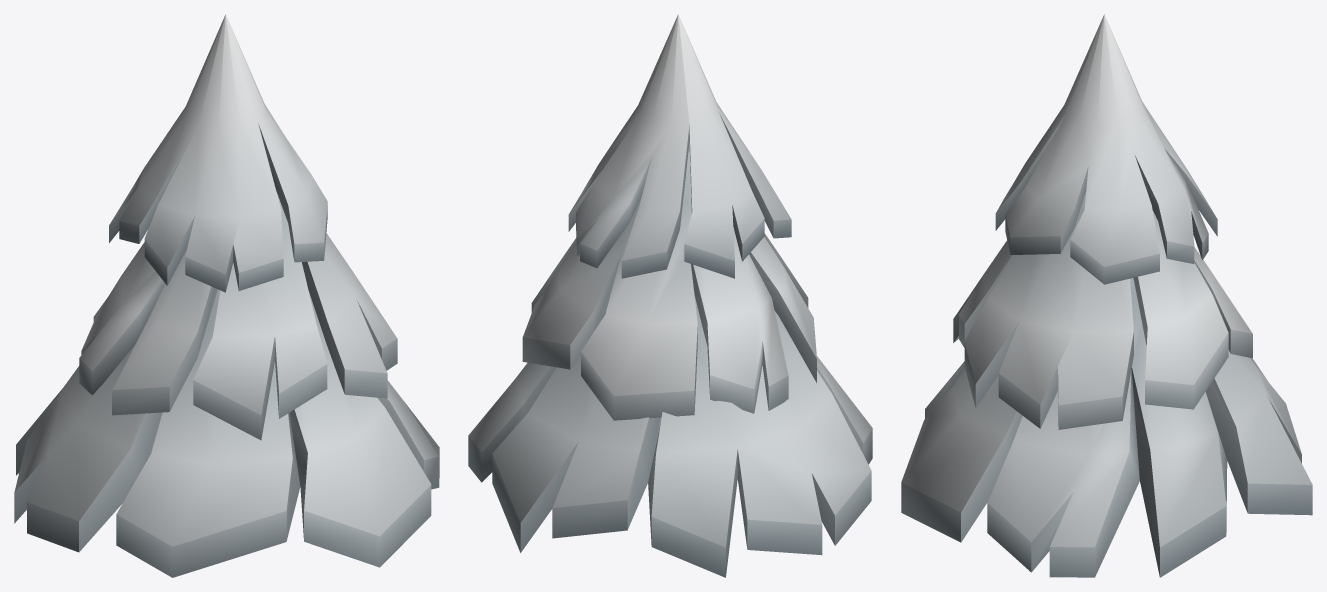
The model's file is firtree-1.glb.
The picture shows the model from 3 angles, left to right: view 1: azimuth 30°, elevation 25°; view 2: azimuth 150°, elevation 25°; view 3: azimuth 270°, elevation 25°; orthographic projection. The views are drawn at different scales.
Visible parts, largest first — view 1: firtree-1.001; view 2: firtree-1.001; view 3: firtree-1.001.
Part boxes in pixels (x1,y1,x2,y2): firtree-1.001: (14,14,439,577); firtree-1.001: (468,14,872,577); firtree-1.001: (901,14,1312,577).
Bounding box in the file's own units: 1.09 × 1.39 × 1.09.
1 material, 1 textured.
